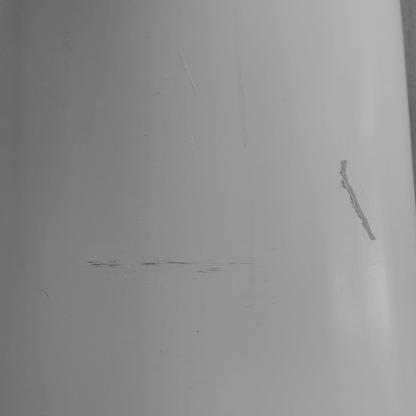sunshang: (336, 158, 378, 241), (87, 257, 228, 275)
